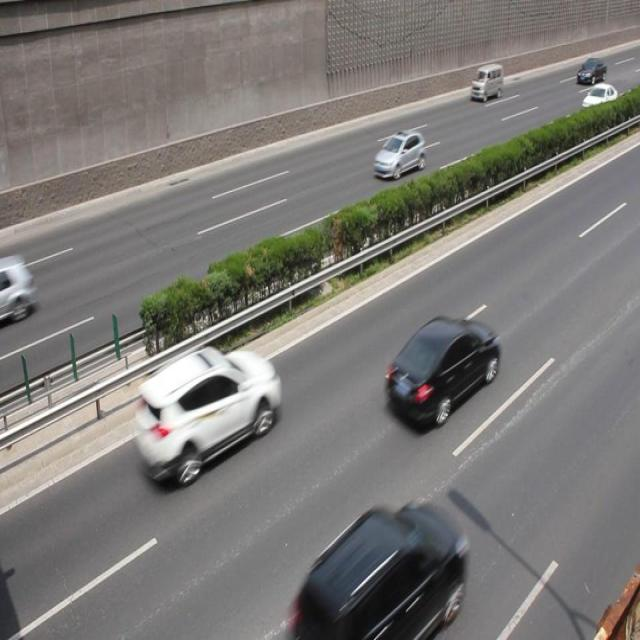car: (131, 346, 278, 490), (298, 506, 462, 634), (384, 314, 498, 428), (373, 129, 424, 179), (579, 82, 616, 118), (574, 57, 604, 85)
truck: (469, 64, 502, 100)
